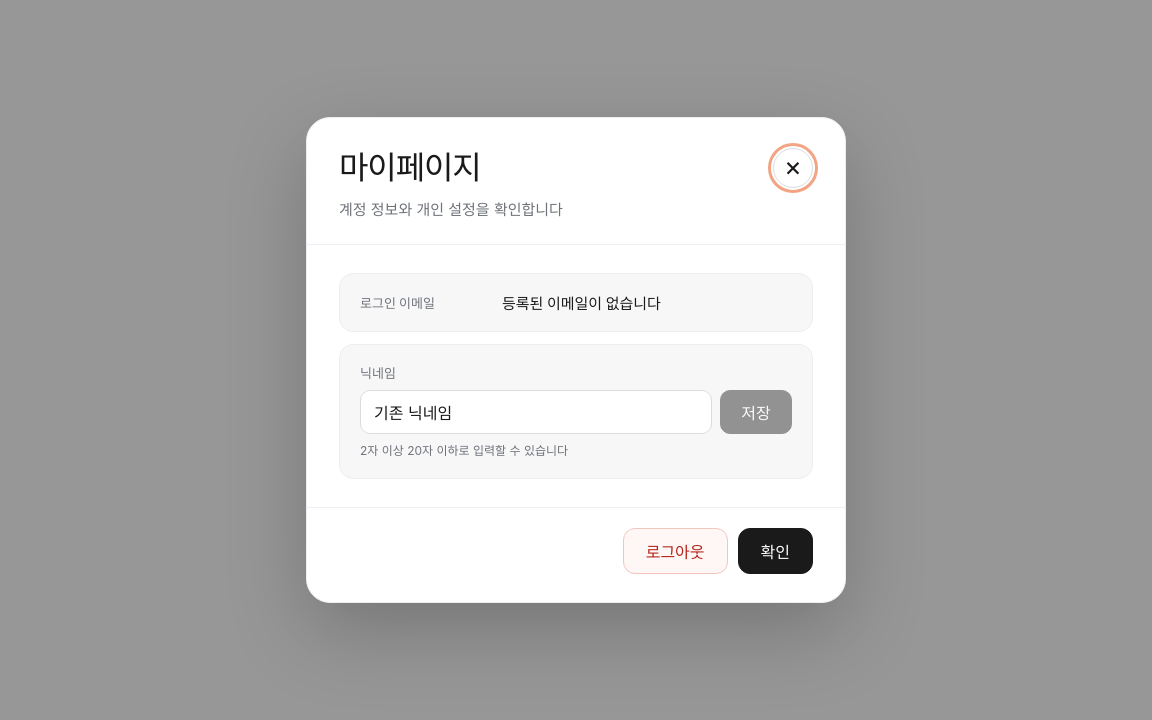
it: AccountProfileDialog › keeps an invalid one-character nickname on the client
The image size is (1152, 720).
Replace the text in the field labelled "닉네임" with "A": (536, 412) 360,390 -> 712,434
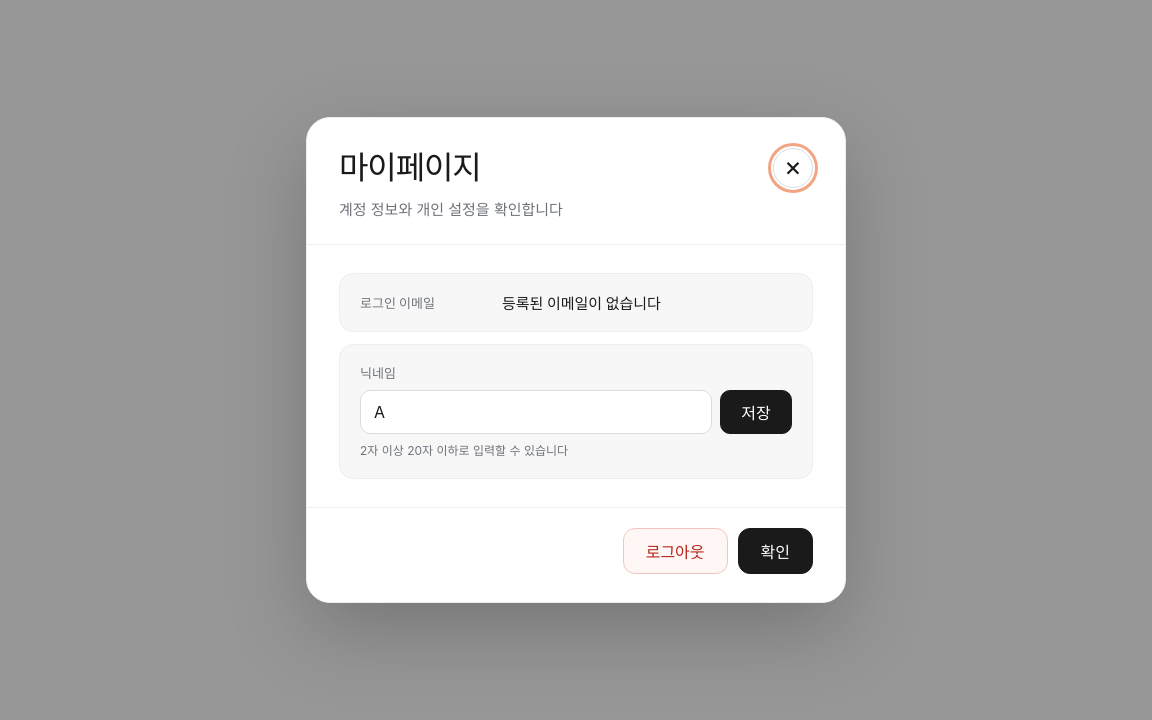
Click the button "저장": (756, 412) 720,390 -> 792,434
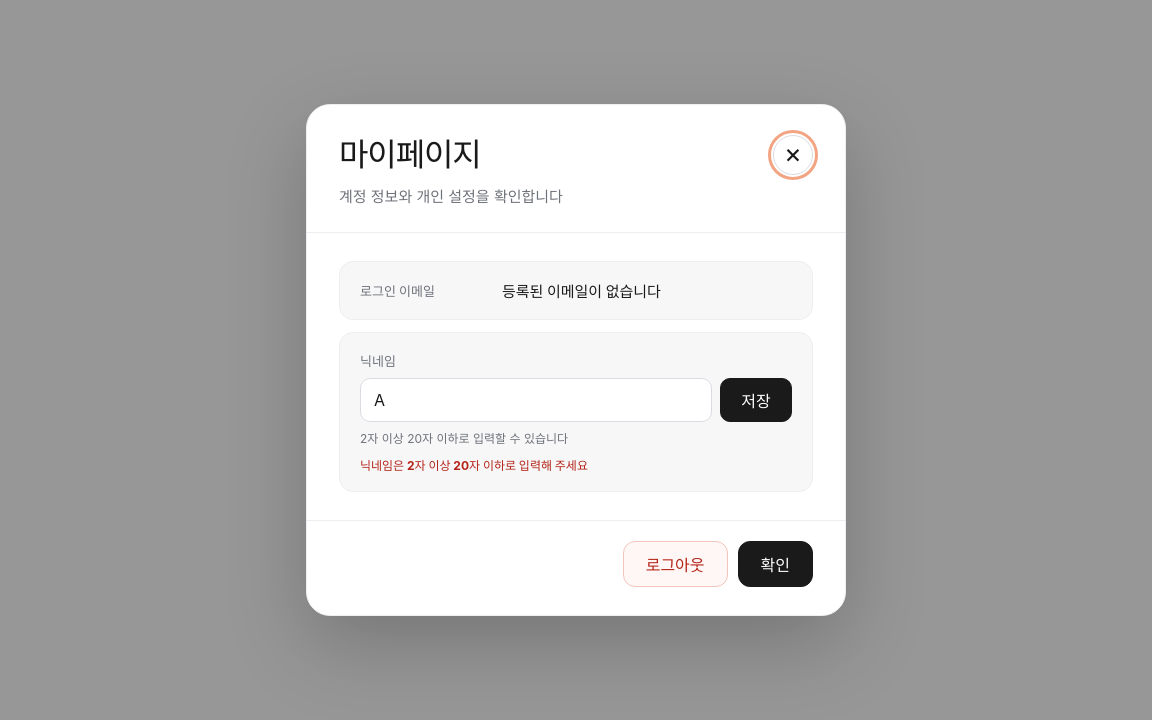
Check: the message shows "2자 이상 20자 이하", box 360,458 -> 588,473
